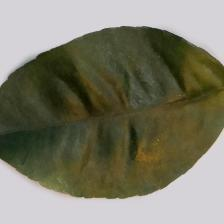healthy: (17, 41, 193, 157)
